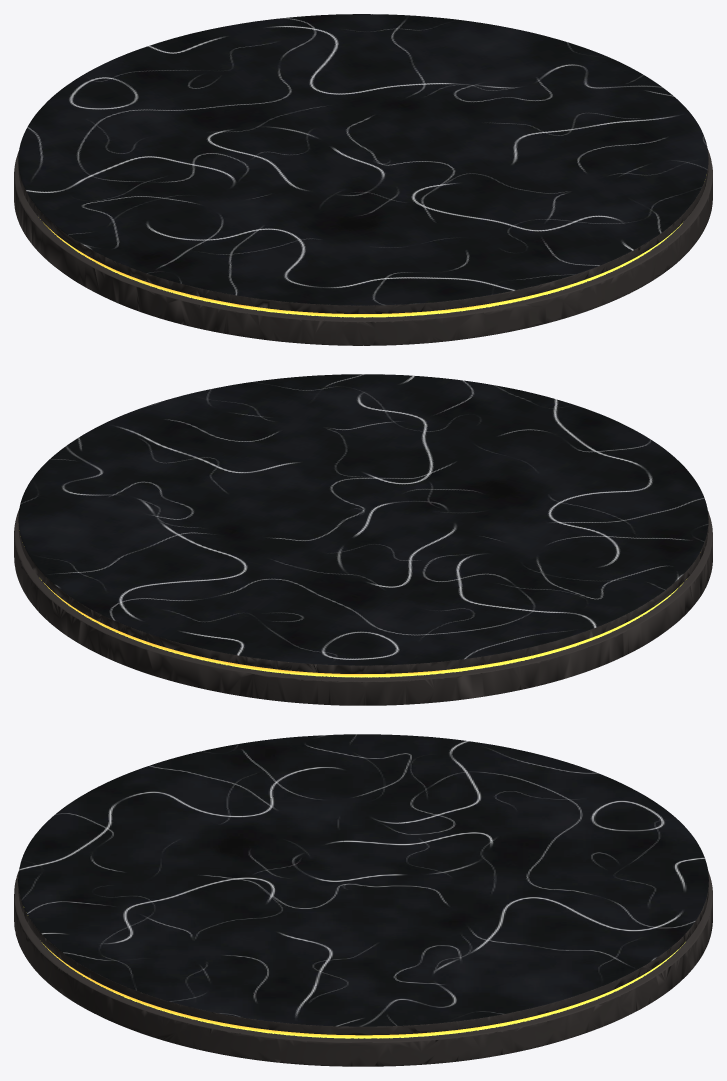
Rendered from turntable.glb.
3 renders of one model, top to bottom at view 1: azimuth 30°, elevation 25°; view 2: azimuth 150°, elevation 25°; view 3: azimuth 270°, elevation 25°, orthographic.
Visible parts, largest first — view 1: Mesh_0; view 2: Mesh_0; view 3: Mesh_0.
Boxes of the visible parts, <box> form: Mesh_0: <box>14,14,712,345</box>; Mesh_0: <box>14,374,712,705</box>; Mesh_0: <box>14,734,712,1066</box>.
Bounding box in the file's own units: 1.19 × 0.0742 × 1.19.
Materials: 3 (1 with a texture image).
